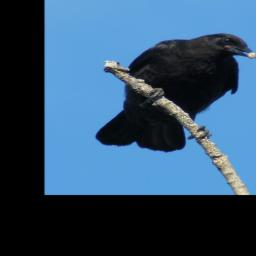Crow: (94, 33, 256, 153)
